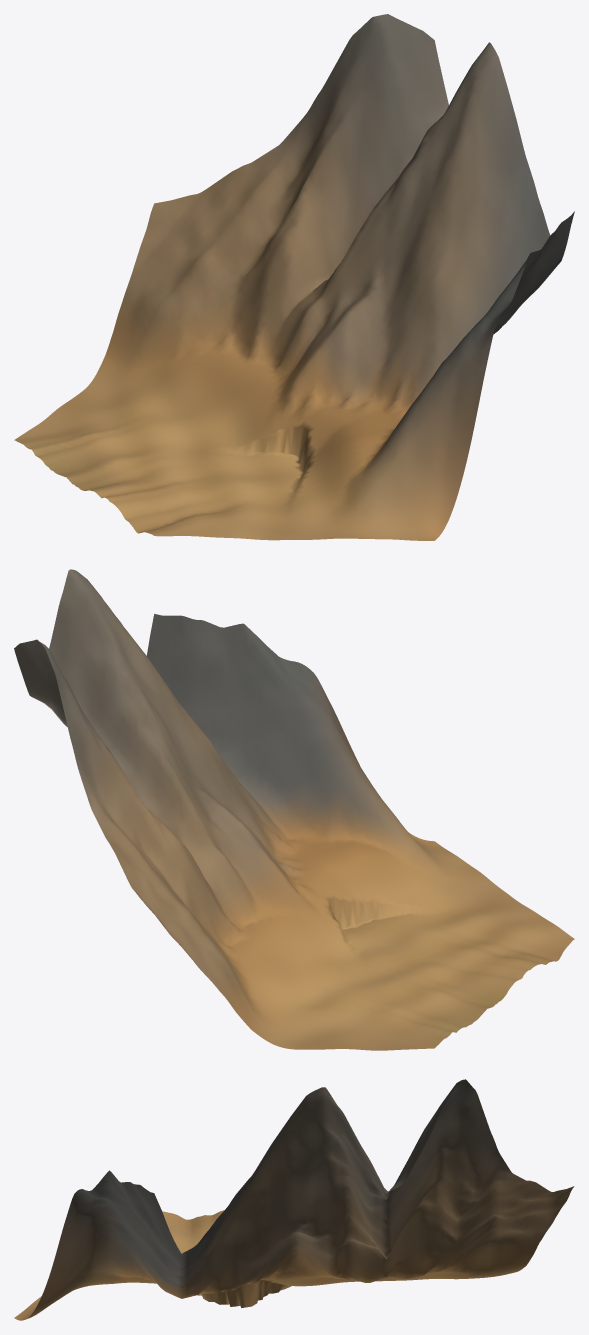
The picture shows the model from 3 angles, top to bottom: view 1: azimuth 30°, elevation 25°; view 2: azimuth 150°, elevation 25°; view 3: azimuth 270°, elevation 25°; orthographic projection.
Parts seen in each view (by area): view 1: terrain; view 2: terrain; view 3: terrain.
Boxes of the visible parts, left/top/right/bottom form: terrain: left=14, top=14, right=574, bottom=540; terrain: left=14, top=569, right=574, bottom=1050; terrain: left=14, top=1079, right=574, bottom=1320.
Size of the model in its own units: 4330 by 3330 by 5000.
